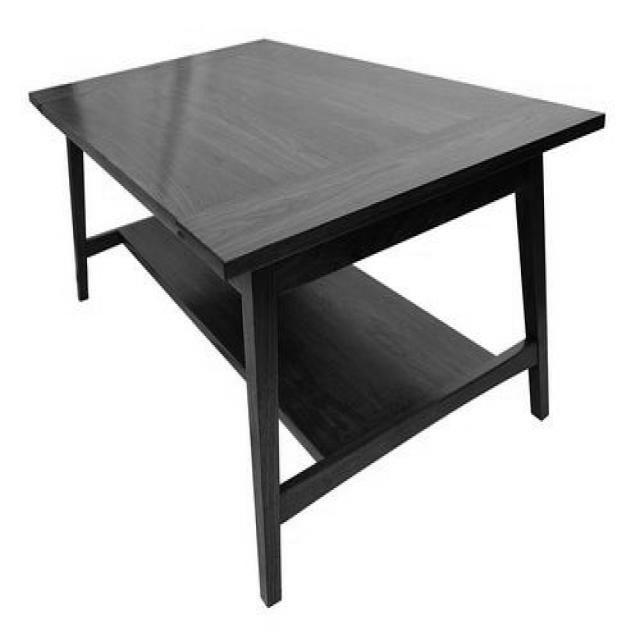table: (29, 32, 607, 606)
